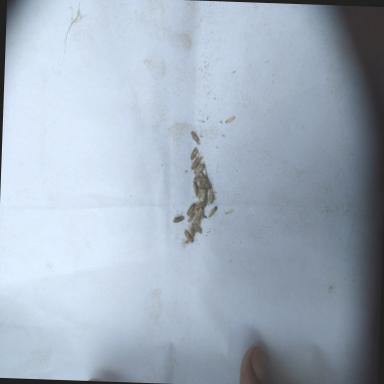pbw: (182, 229, 194, 243), (194, 206, 204, 222), (185, 201, 195, 217), (186, 222, 195, 238), (193, 200, 206, 211), (190, 129, 200, 143), (201, 178, 212, 190), (207, 205, 218, 217), (191, 222, 202, 234), (172, 213, 185, 223), (199, 186, 207, 202), (208, 188, 216, 204), (200, 166, 209, 180), (192, 162, 202, 174), (190, 145, 198, 160), (192, 180, 198, 198), (196, 184, 202, 199), (192, 174, 202, 182), (186, 212, 194, 221)
